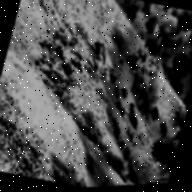boar: (86, 30, 115, 69), (121, 95, 147, 135), (106, 61, 124, 89), (119, 78, 131, 98)
